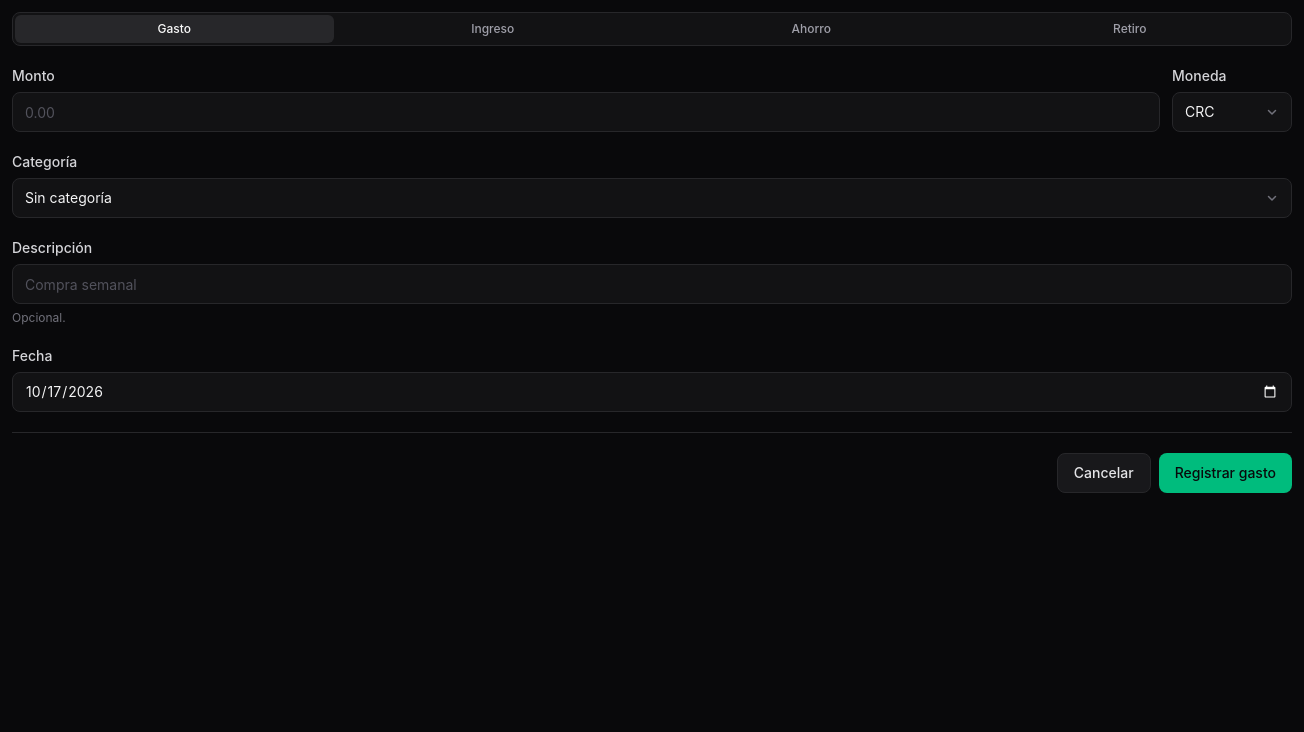
TransactionForm › muestra el error de la API sin cerrar el formulario
The width and height of the screenshot is (1304, 732).
Type "10" into the field labelled "Monto".
click(586, 112); type("10")  # box [12,92,1160,132]
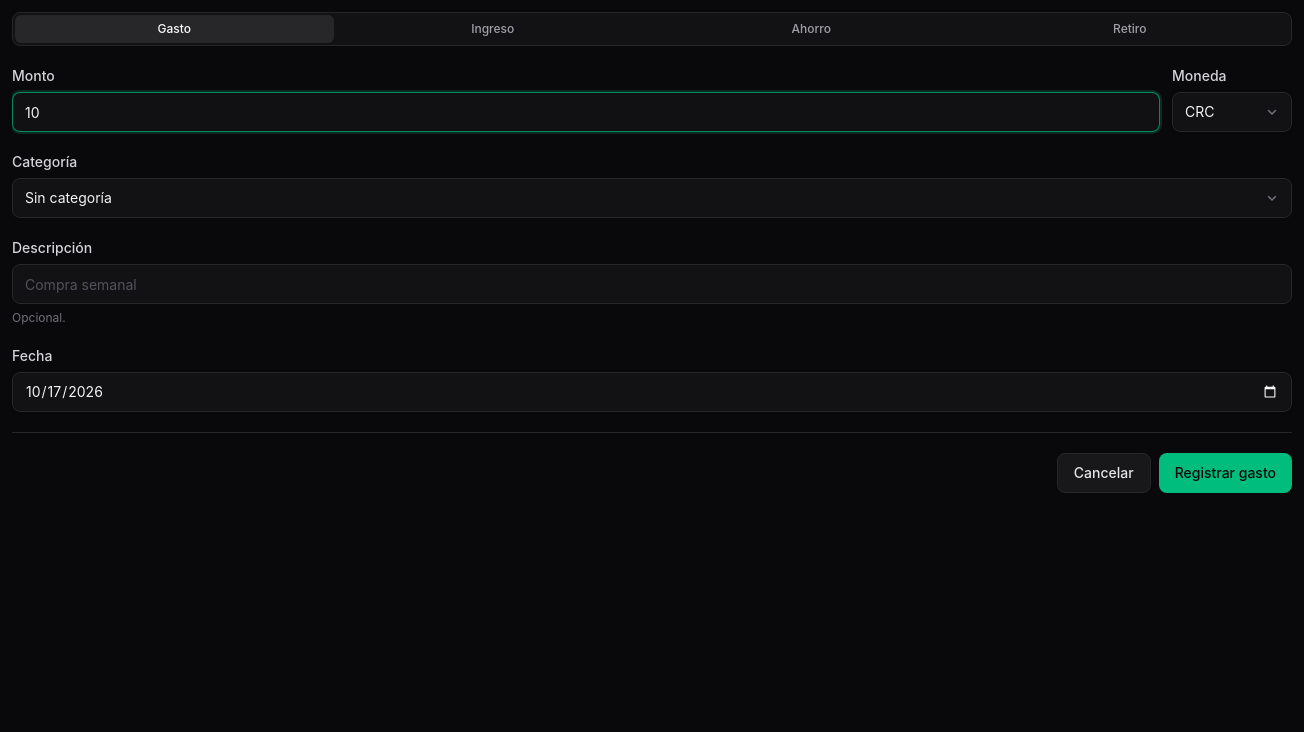
Click the button "Registrar gasto".
click(1225, 473)  # box [1159,453,1292,493]
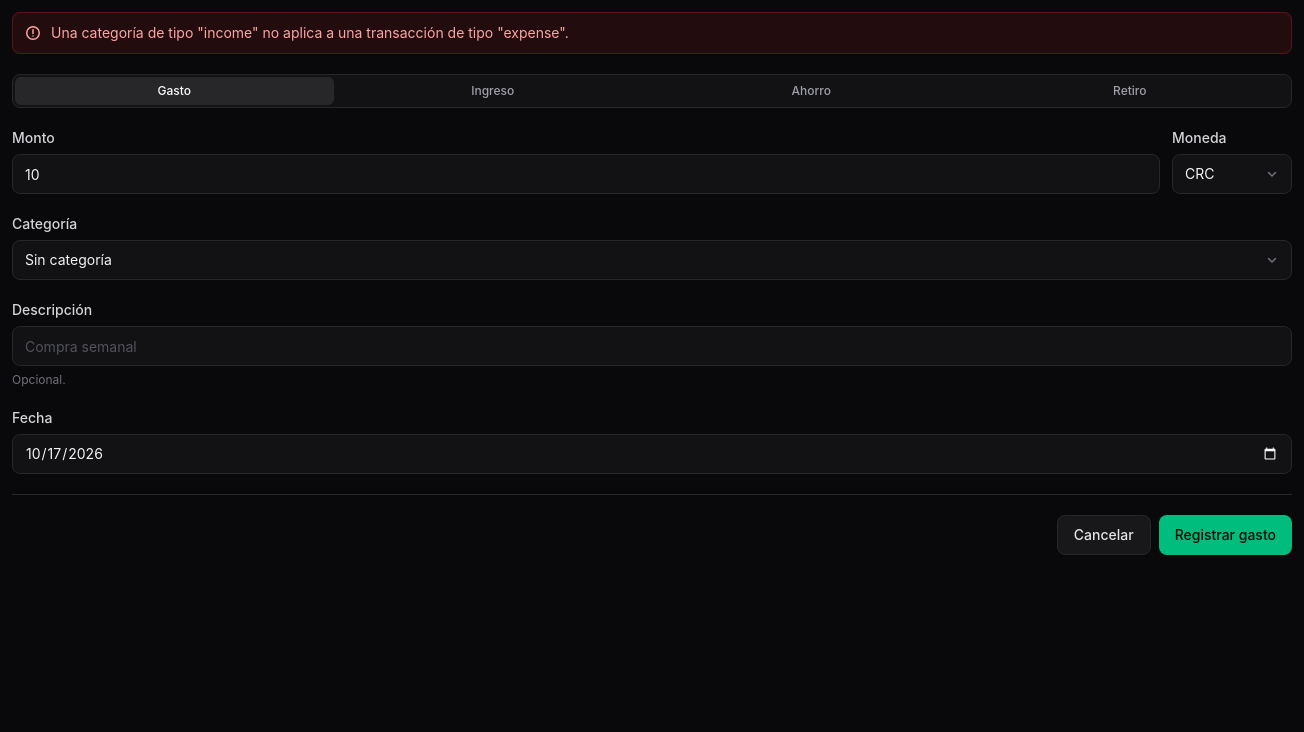
Check: the message shows "no aplica a una transacción", box [51,24,569,41]
